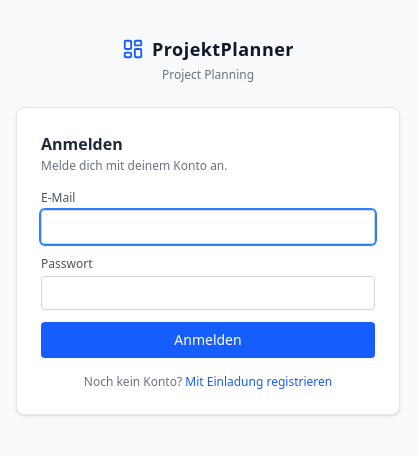
Test: LoginPage › shows an error on bad credentials
The width and height of the screenshot is (417, 456).
Type "a@b.c" into the field labelled "E-Mail" at (208, 227), box [41,210,375,244]
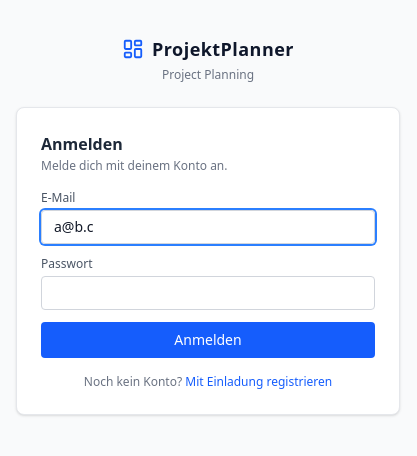
Type "wrong" into the password field labelled "Passwort" at (208, 293), box [41,276,375,310]
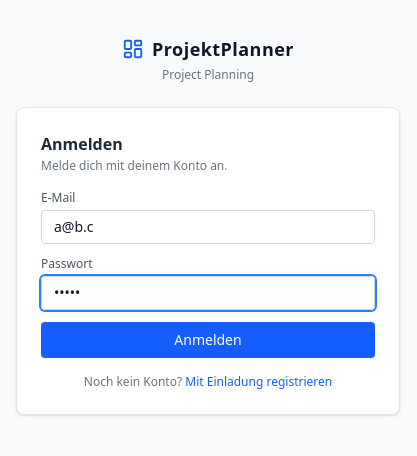
Click the button "Anmelden" at (208, 340), box [41,322,375,358]
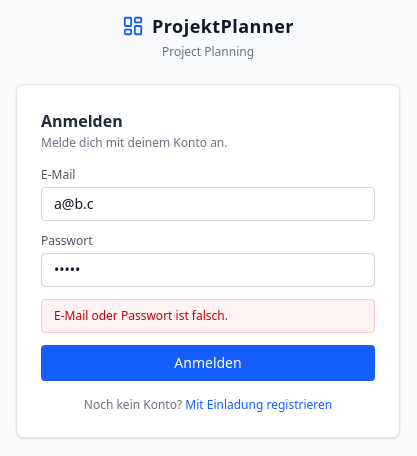
Check: the message reads "E-Mail oder Passwort ist falsch.", box [54,307,228,324]
